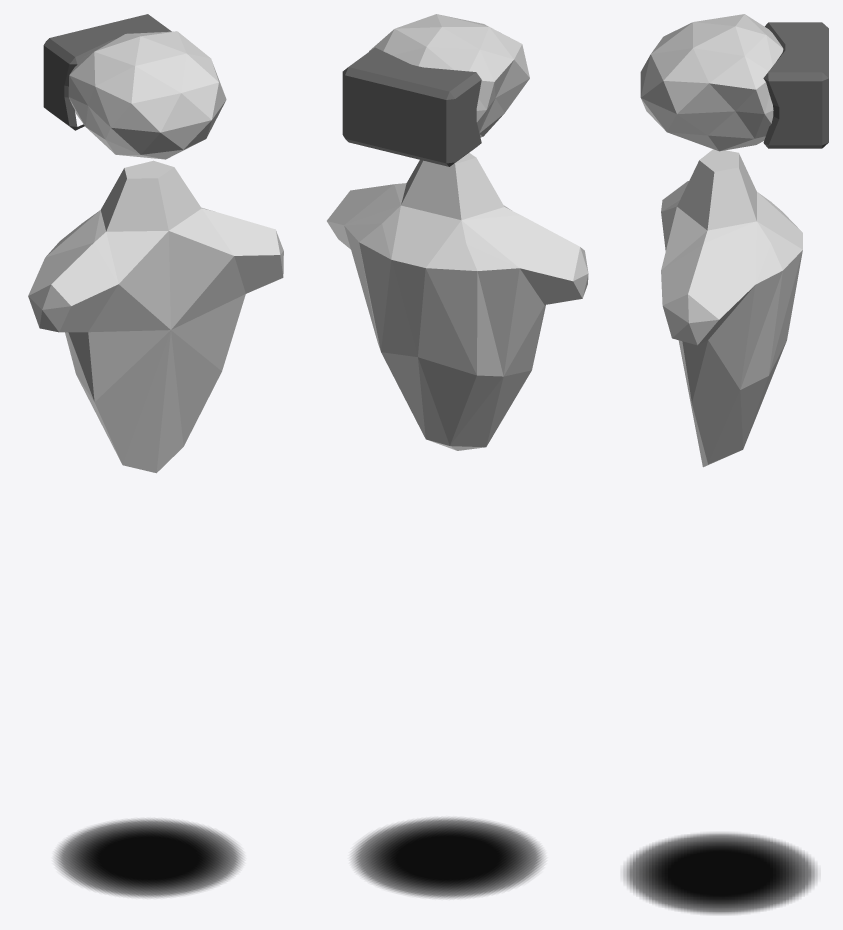
Rendered from Avatar.glb.
The picture shows the model from 3 angles, left to right: view 1: azimuth 30°, elevation 25°; view 2: azimuth 150°, elevation 25°; view 3: azimuth 270°, elevation 25°; orthographic projection. The views are drawn at different scales.
Parts seen in each view (by area): view 1: Body, Head, Shadow, HMD; view 2: Body, HMD, Shadow, Head; view 3: Body, Head, Shadow, HMD.
Part boxes in pixels (<box>): Body: <box>28,160,283,473</box>; Head: <box>68,31,226,159</box>; Shadow: <box>55,819,242,897</box>; HMD: <box>43,14,171,130</box>; Body: <box>327,153,588,450</box>; HMD: <box>342,47,481,166</box>; Shadow: <box>352,817,543,898</box>; Head: <box>369,14,529,137</box>; Body: <box>661,149,802,467</box>; Head: <box>640,14,783,151</box>; Shadow: <box>623,833,817,914</box>; HMD: <box>763,22,828,148</box>.
Bounding box in the file's own units: 0.574 × 1.85 × 0.4206.
3 materials, 1 textured.
